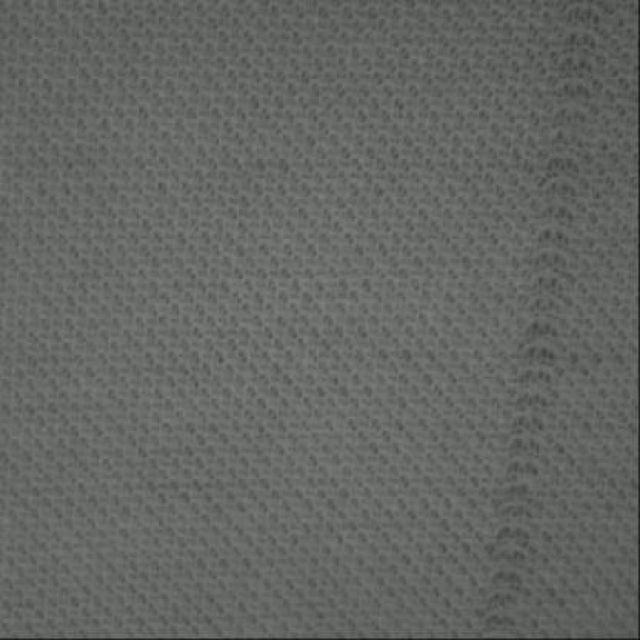Line: (484, 1, 606, 634)
